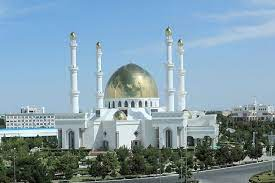Mosque: (61, 28, 194, 150)
